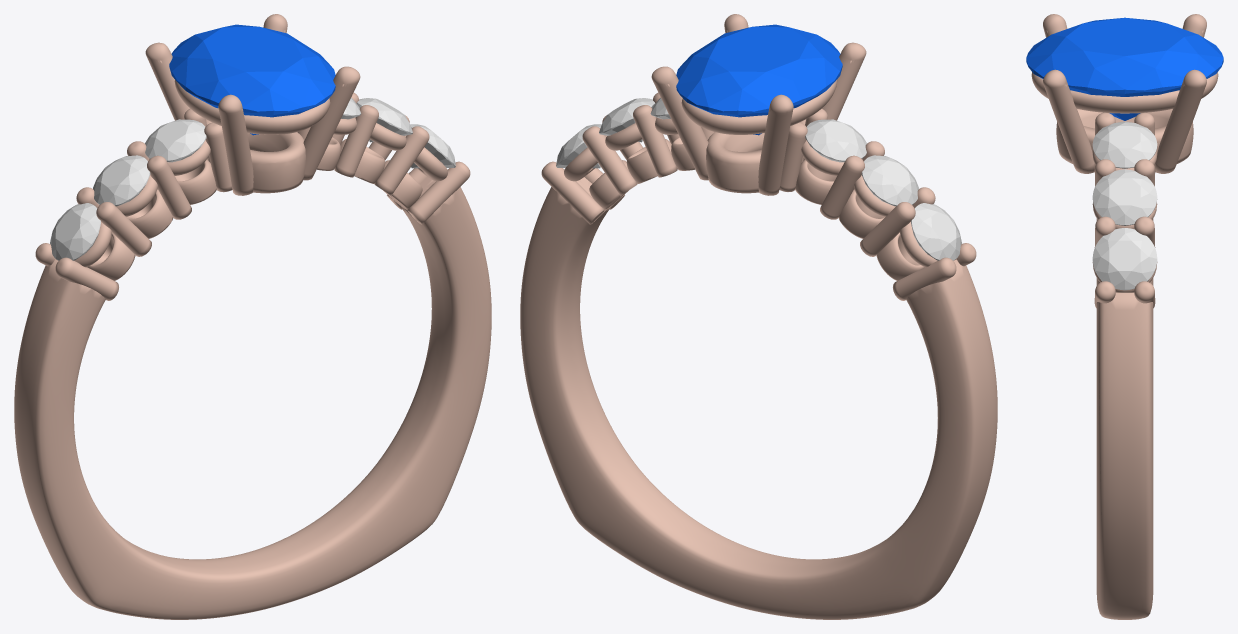
File: bluesapphire-oval-rosegold-4prong-europeanshank-7stone.glb
3 views of the same model, side by side, from view 1: azimuth 30°, elevation 25°; view 2: azimuth 150°, elevation 25°; view 3: azimuth 270°, elevation 25° (orthographic).
Parts seen in each view (by area): view 1: metal, stone, side, side.001, side.002, side.004, side.003; view 2: metal, stone, side, side.001, side.002, side.004, side.003; view 3: metal, stone, side.003, side.004, side.005.
Part boxes in pixels (x1,y1,x2,y2): metal: (14,14,491,619); stone: (169,24,335,135); side: (50,203,100,260); side.001: (93,155,150,206); side.002: (145,119,206,162); side.004: (356,98,412,142); side.003: (410,124,455,168); metal: (520,14,997,619); stone: (676,24,842,135); side: (911,203,961,260); side.001: (861,155,918,206); side.002: (805,119,866,162); side.004: (599,98,655,142); side.003: (556,124,601,168); metal: (1031,14,1218,619); stone: (1026,17,1223,120); side.003: (1092,228,1157,290); side.004: (1092,169,1157,225); side.005: (1092,121,1157,168).
Bounding box in the file's own units: 20.1 × 23.21 × 7.64.
